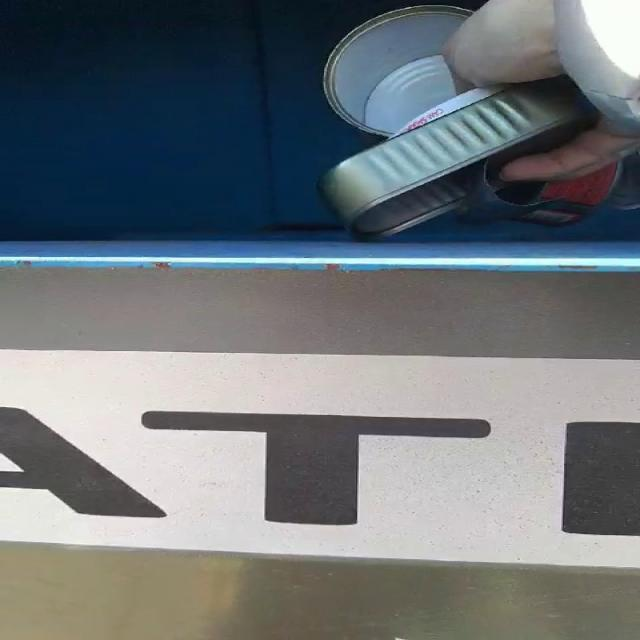Bin: (1, 0, 640, 358), (3, 541, 640, 640)
Metal: (320, 6, 619, 240)
